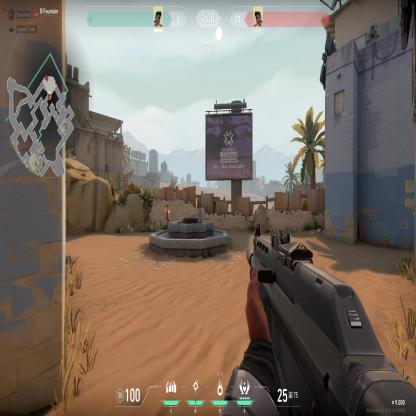enemy: (165, 204, 170, 221)
